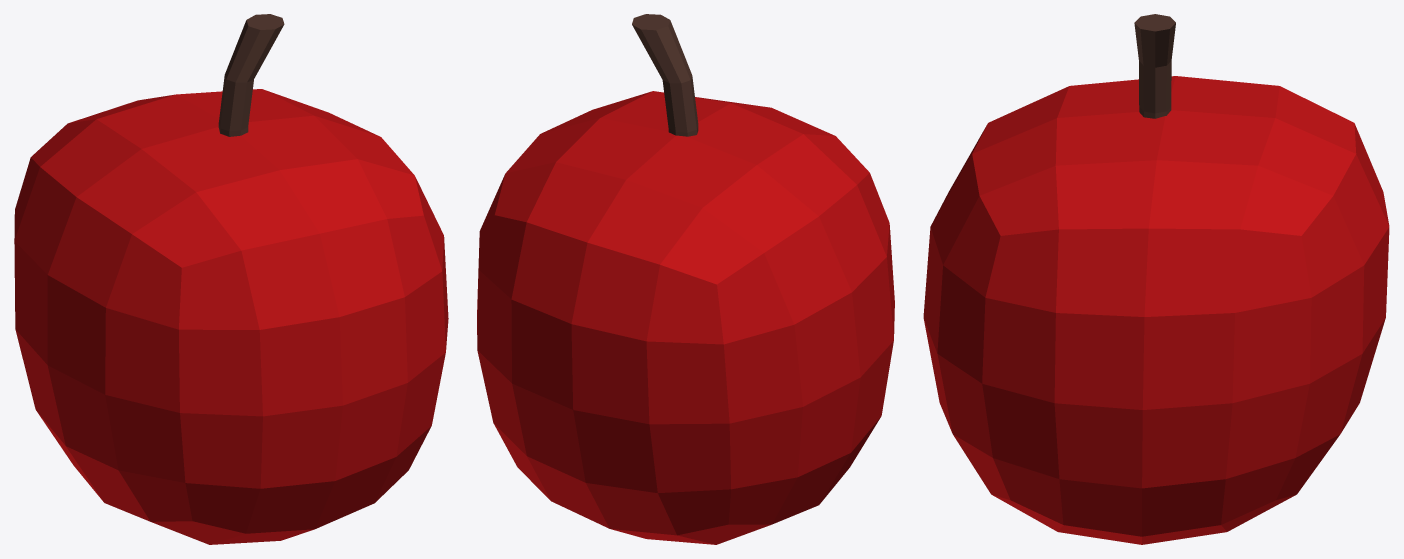
Rendered from Apple red v1.2.fbx.
3 renders of one model, left to right at view 1: azimuth 30°, elevation 25°; view 2: azimuth 150°, elevation 25°; view 3: azimuth 270°, elevation 25°, orthographic. The views are drawn at different scales.
Parts seen in each view (by area): view 1: Cube.003, Cylinder.003; view 2: Cube.003, Cylinder.003; view 3: Cube.003, Cylinder.003.
Boxes of the visible parts, x1=… form: Cube.003: x1=14, y1=89, x2=448, y2=544; Cylinder.003: x1=218, y1=14, x2=284, y2=136; Cube.003: x1=477, y1=91, x2=894, y2=544; Cylinder.003: x1=632, y1=14, x2=698, y2=136; Cube.003: x1=923, y1=76, x2=1389, y2=544; Cylinder.003: x1=1134, y1=14, x2=1175, y2=118.
Bounding box in the file's own units: 327 × 423 × 348.
